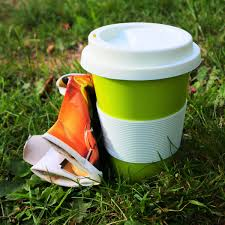paper_cup: (82, 23, 202, 184), (22, 72, 115, 190)
